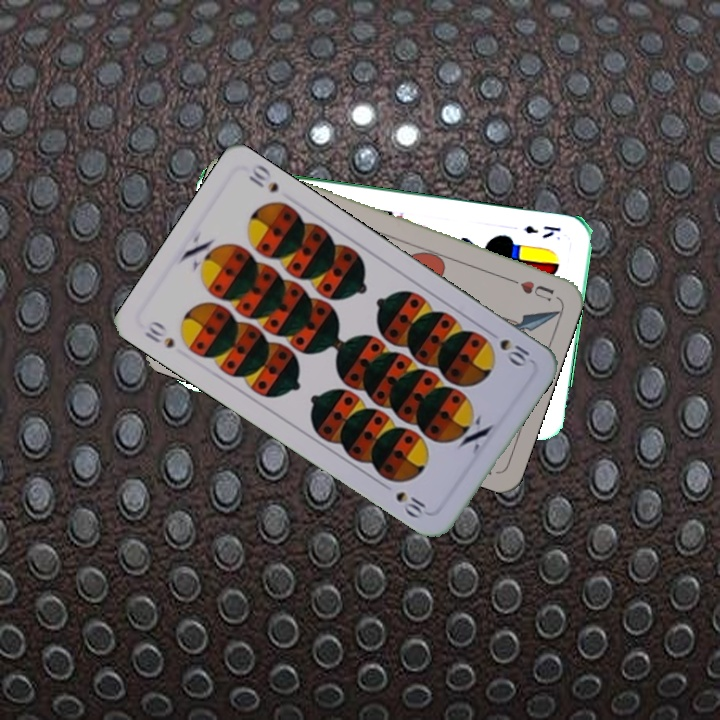EK: (520, 221, 564, 241)
HU: (502, 273, 557, 304)
S10: (483, 326, 535, 371), (140, 316, 177, 351)
